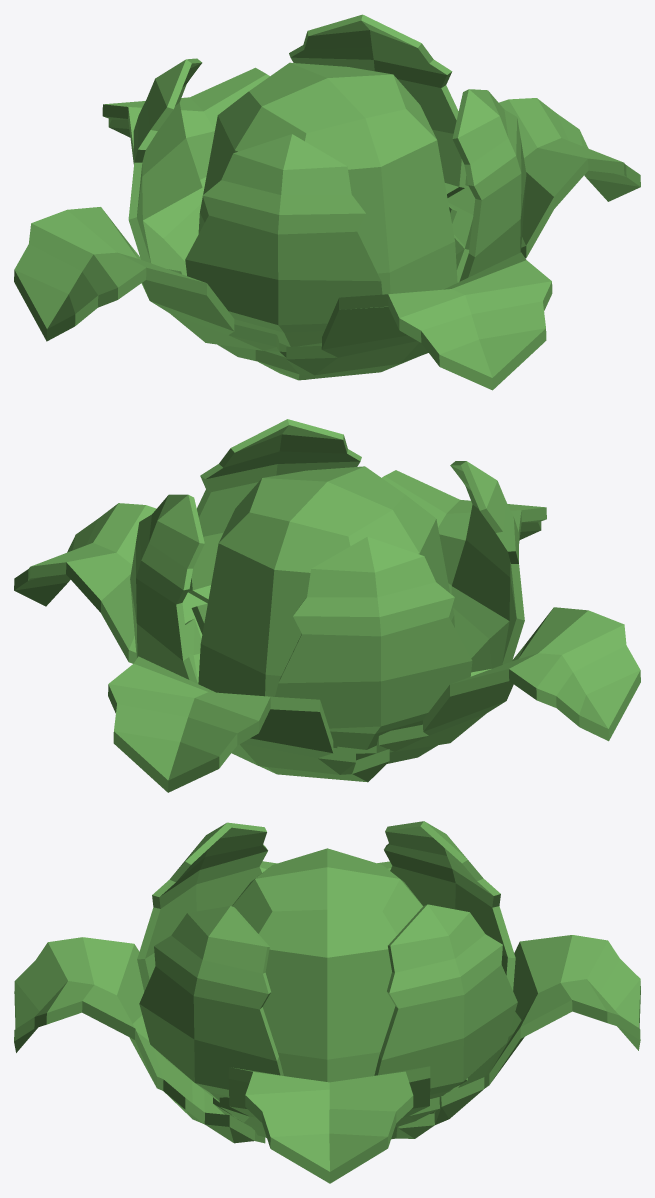
The model's file is Lettuce_4-optimized.glb.
The picture shows the model from 3 angles, top to bottom: view 1: azimuth 30°, elevation 25°; view 2: azimuth 150°, elevation 25°; view 3: azimuth 270°, elevation 25°; orthographic projection. The views are drawn at different scales.
Parts seen in each view (by area): view 1: Lettuce_4; view 2: Lettuce_4; view 3: Lettuce_4.
Boxes of the visible parts, bbox=[...] form: Lettuce_4: bbox=[14, 14, 640, 390]; Lettuce_4: bbox=[14, 419, 640, 792]; Lettuce_4: bbox=[14, 821, 640, 1183].
Size of the model in its own units: 1.04 by 0.4742 by 1.04.
